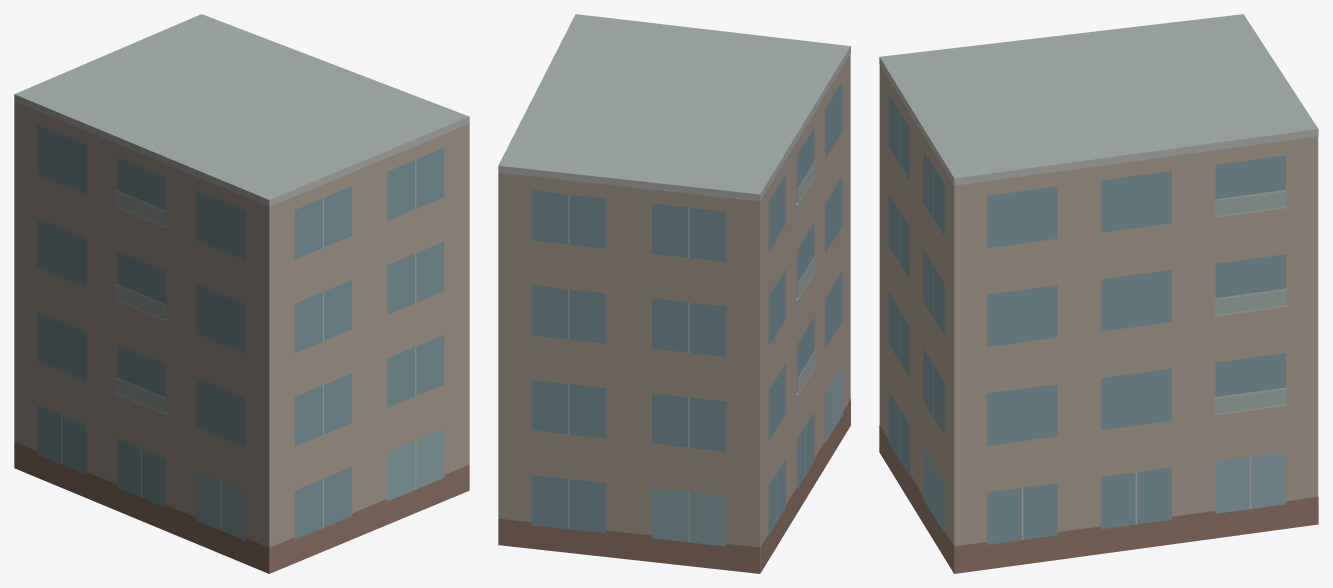
Rendered from survey-upis-32857082.glb.
The picture shows the model from 3 angles, left to right: view 1: azimuth 30°, elevation 25°; view 2: azimuth 150°, elevation 25°; view 3: azimuth 270°, elevation 25°; orthographic projection. The views are drawn at different scales.
Parts seen in each view (by area): view 1: survey-upis-32857082.tmp; view 2: survey-upis-32857082.tmp; view 3: survey-upis-32857082.tmp.
Boxes of the visible parts, x1,y1,x2,y2 form: survey-upis-32857082.tmp: (14,14,469,573); survey-upis-32857082.tmp: (498,14,850,573); survey-upis-32857082.tmp: (879,14,1318,573).
Size of the model in its own units: 11.78 by 13.2 by 13.29.
